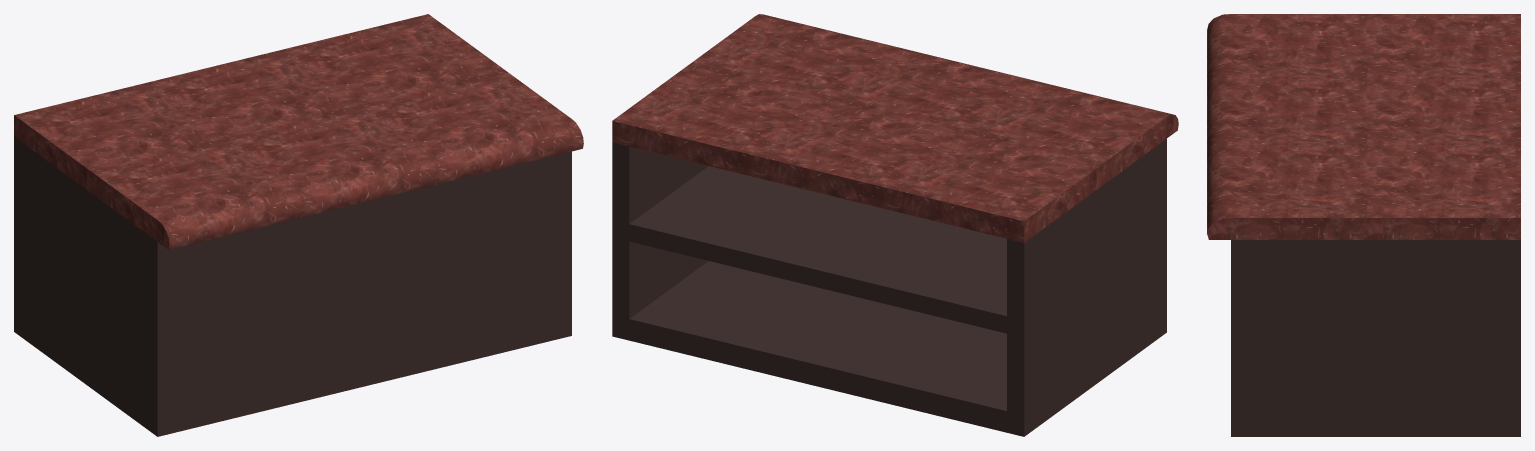
The model's file is counterShelves.gltf.
3 views of the same model, side by side, from view 1: azimuth 30°, elevation 25°; view 2: azimuth 150°, elevation 25°; view 3: azimuth 270°, elevation 25° (orthographic).
Visible parts, largest first — view 1: counterShelves; view 2: counterShelves; view 3: counterShelves.
Part boxes in pixels (left/top/right/bottom): counterShelves: left=14, top=14, right=583, bottom=436; counterShelves: left=612, top=14, right=1178, bottom=436; counterShelves: left=1207, top=14, right=1520, bottom=436.
Size of the model in its own units: 2 by 1 by 1.3.
Materials: 2 (1 with a texture image).
